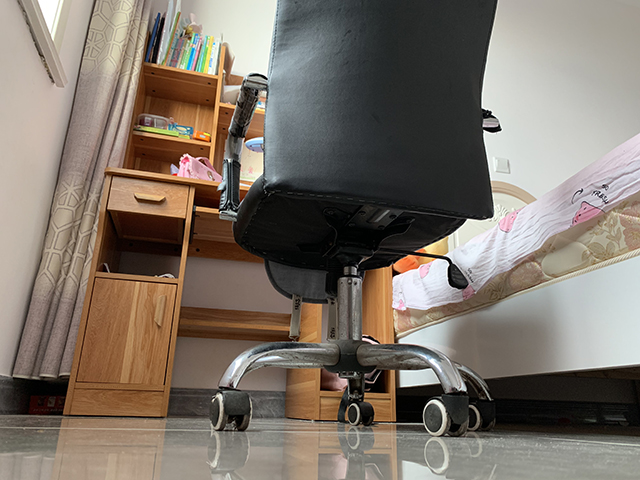bed: (390, 131, 640, 422)
stool: (205, 1, 501, 439)
table: (59, 31, 398, 425)
